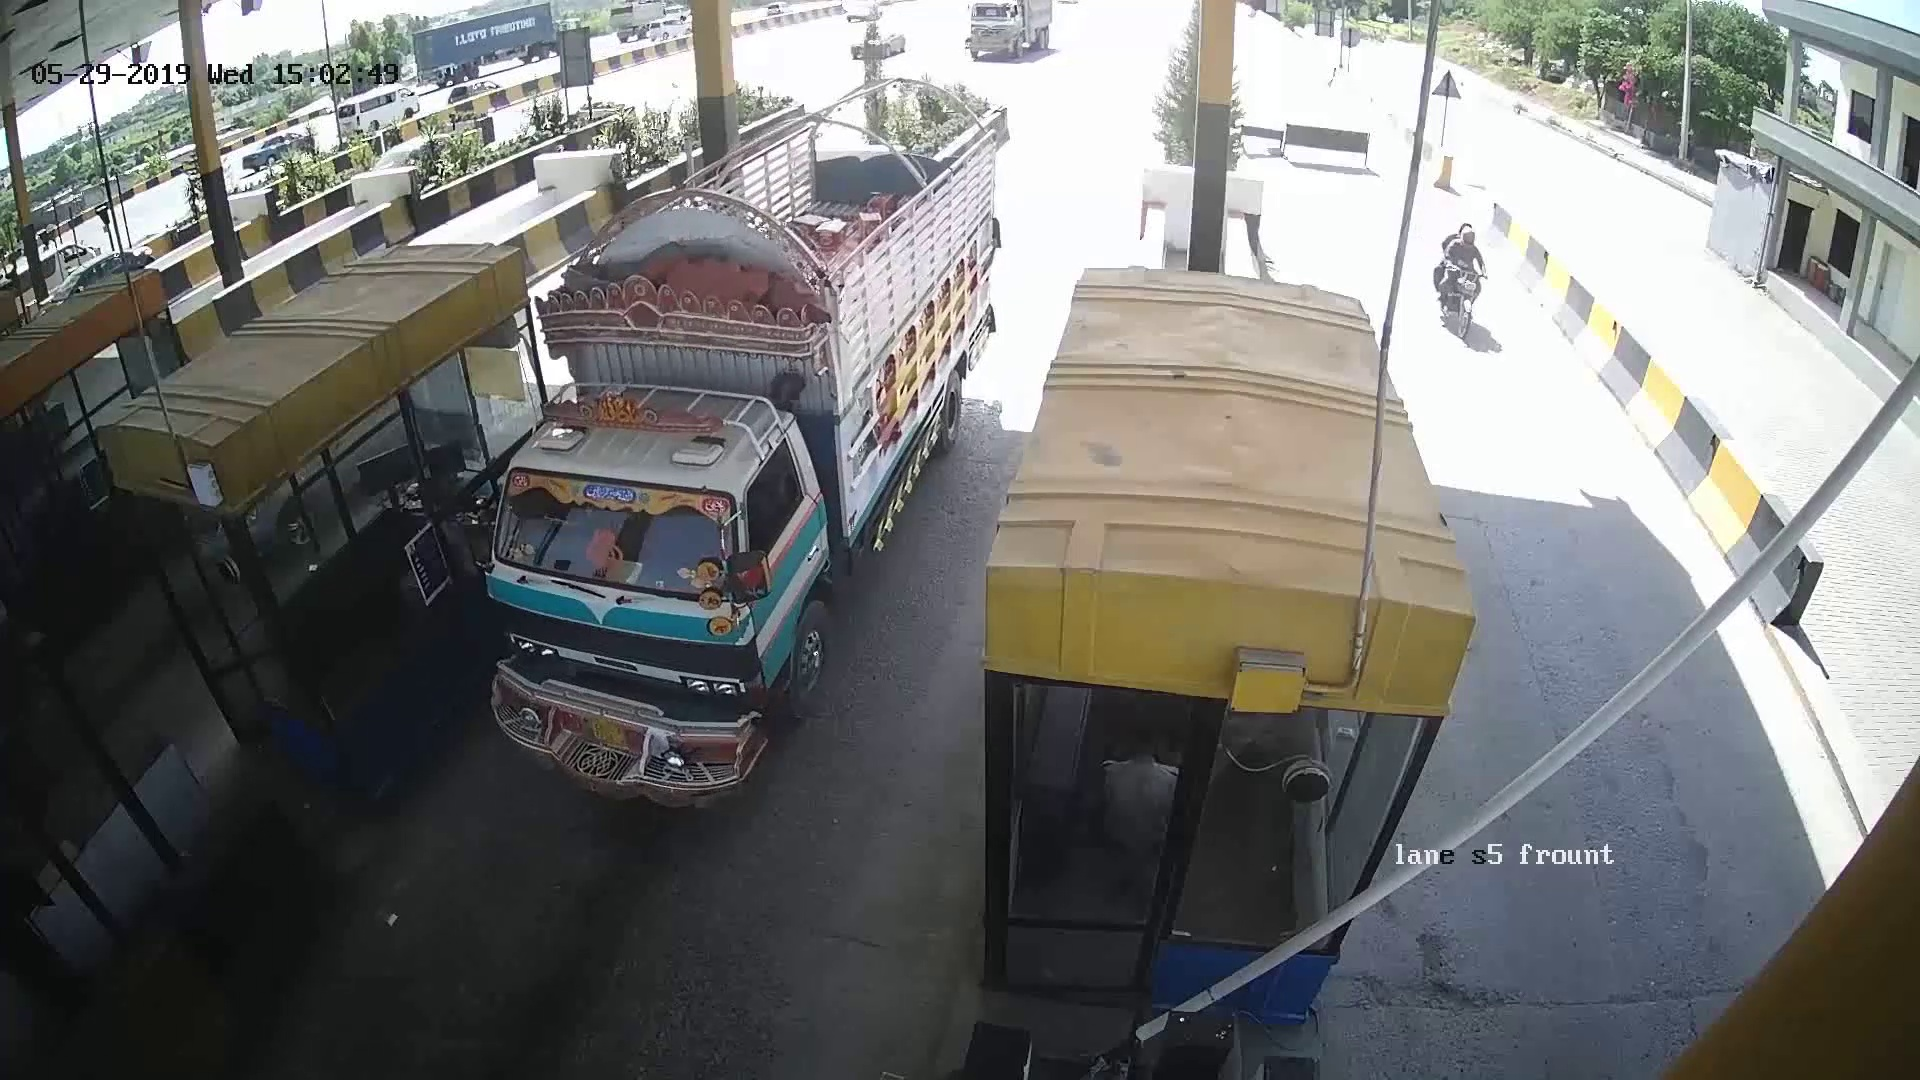truck: (522, 187, 1000, 764)
